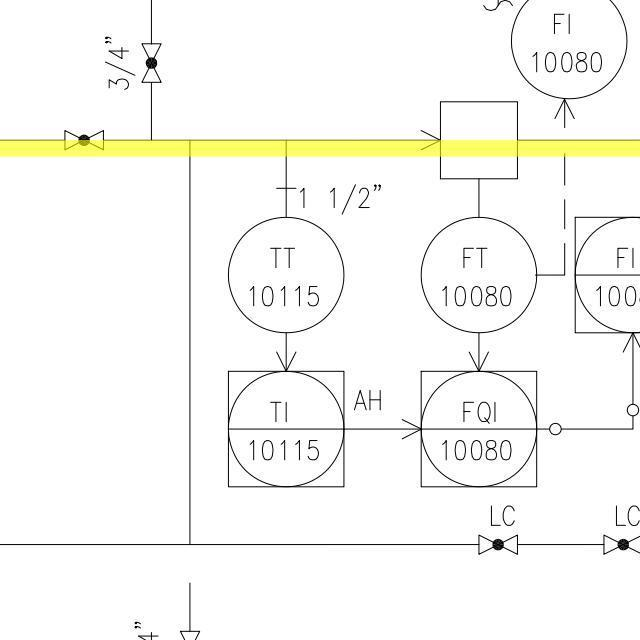BV2: (137, 38, 165, 89), (475, 530, 523, 559), (58, 127, 109, 152), (598, 532, 640, 559)
